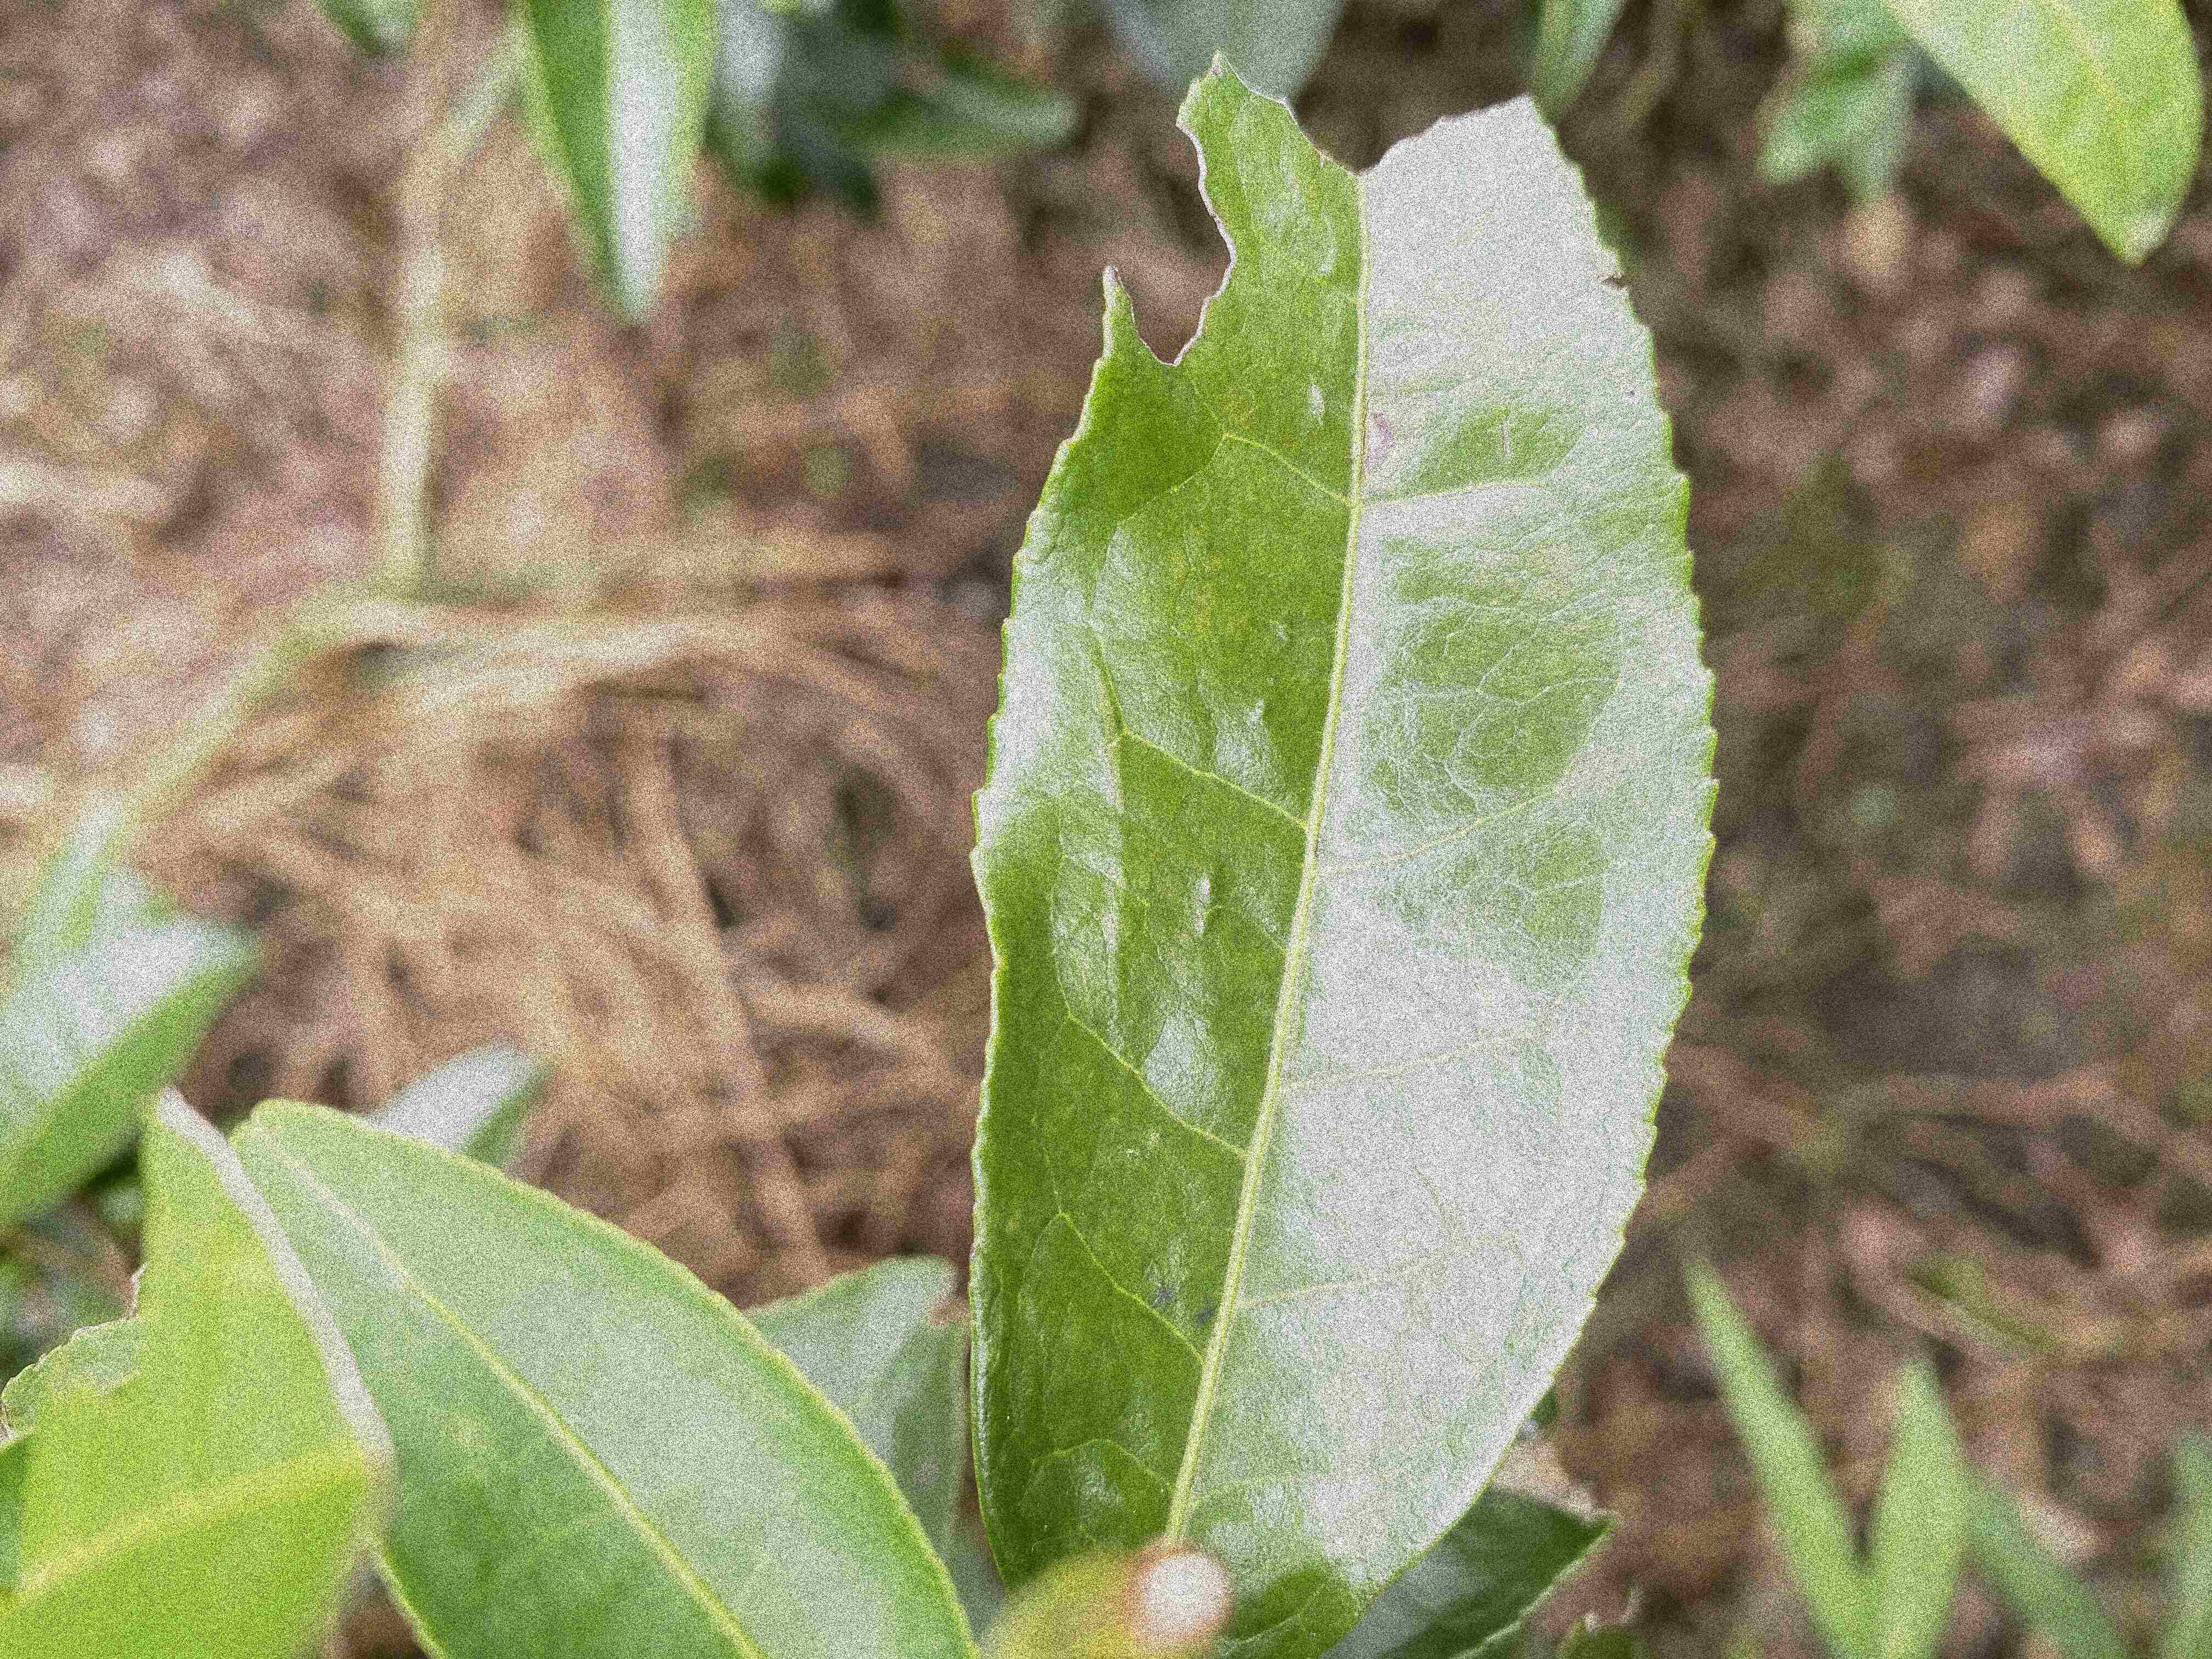chihuo_high: (967, 45, 1724, 1652)
